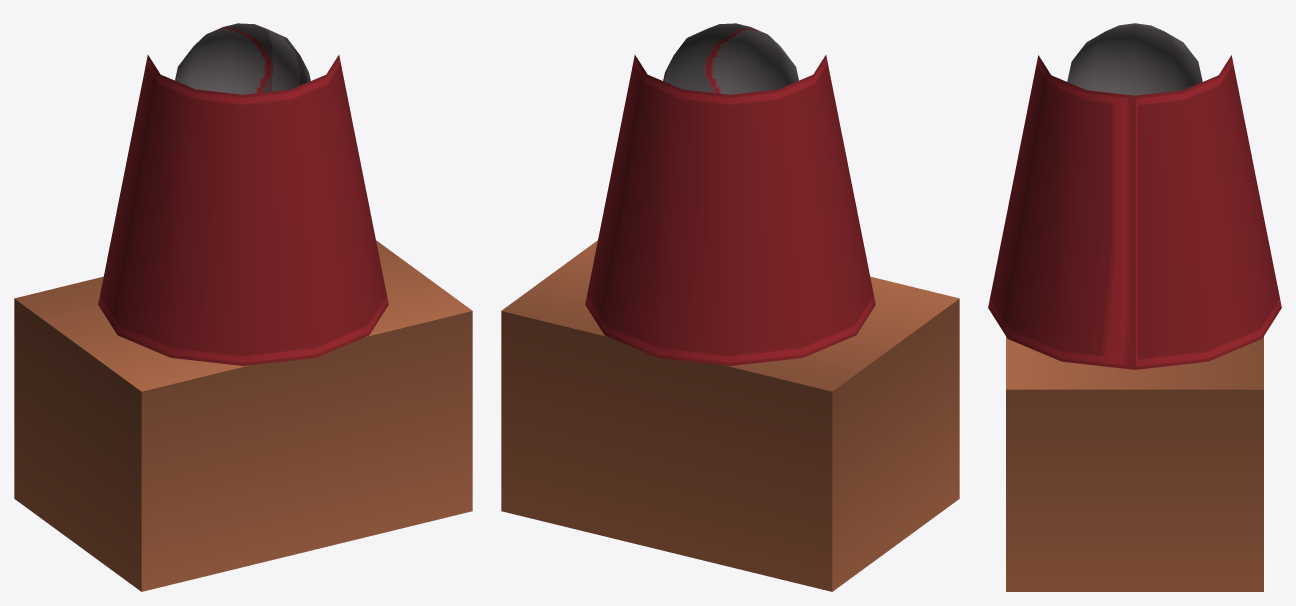
The model's file is siphon_valve_wheel.glb.
3 renders of one model, left to right at view 1: azimuth 30°, elevation 25°; view 2: azimuth 150°, elevation 25°; view 3: azimuth 270°, elevation 25°, orthographic.
Parts seen in each view (by area): view 1: siphon_valve_wheel; view 2: siphon_valve_wheel; view 3: siphon_valve_wheel.
Boxes of the visible parts, x1,y1,x2,y2 form: siphon_valve_wheel: (14, 23, 472, 591); siphon_valve_wheel: (501, 23, 959, 591); siphon_valve_wheel: (988, 23, 1281, 591).
Size of the model in its own units: 0.9 by 1.23 by 0.684.
1 material, 1 textured.
